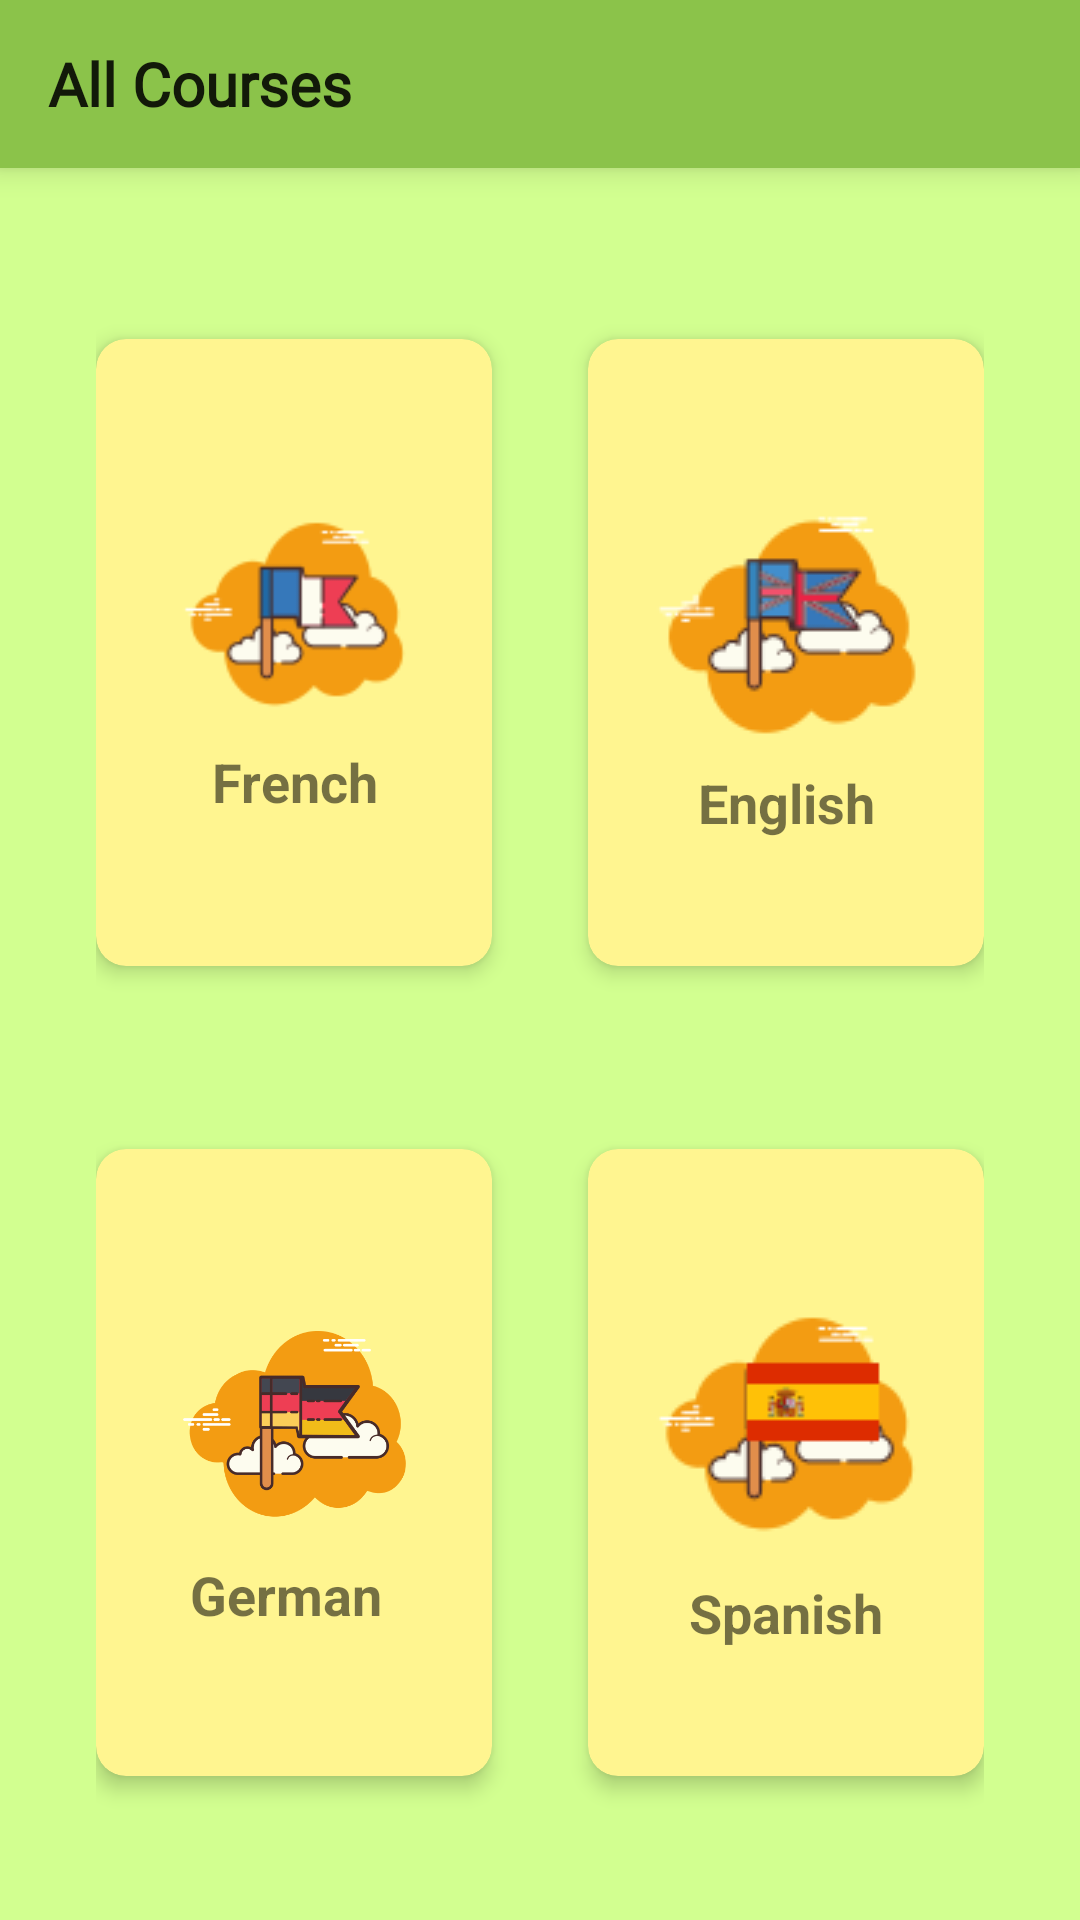

Screen size 1080 × 1920. Icon name, then its center in pixels as point (x, y):
france: point (294, 614)
greatbritain: point (787, 625)
